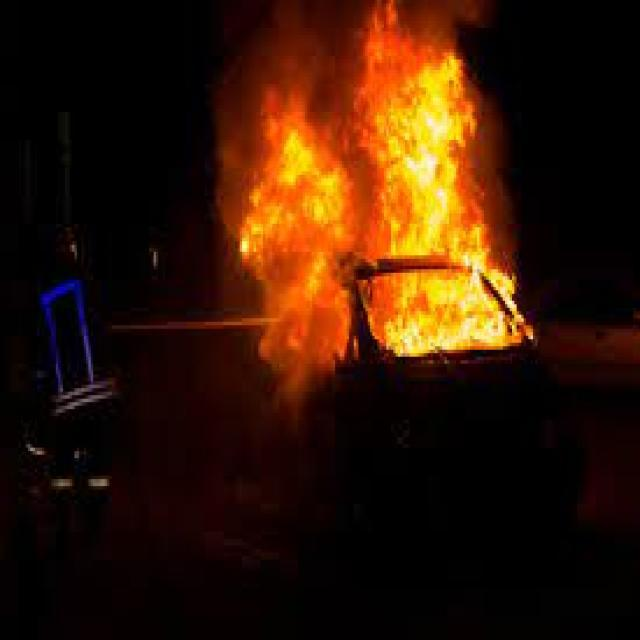fire: (230, 0, 505, 301), (390, 311, 520, 342)
